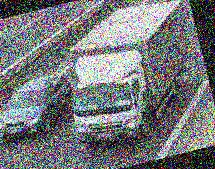car: (0, 70, 81, 145)
